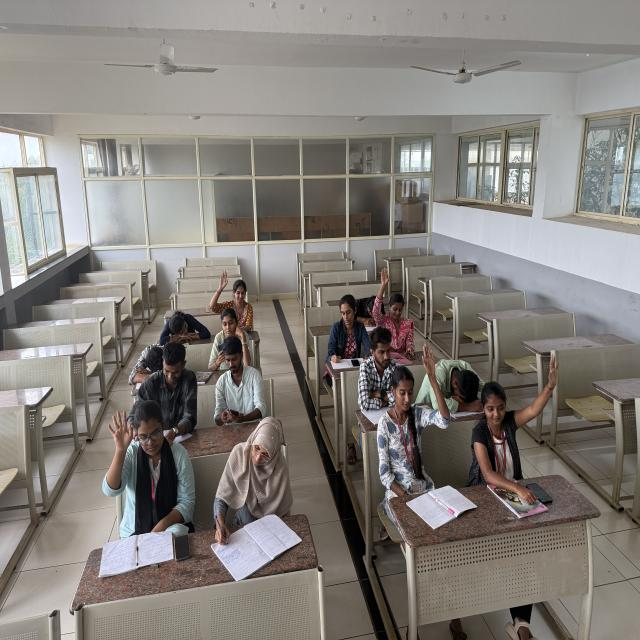Hand Rising: (380, 340, 446, 520), (480, 340, 556, 474), (102, 397, 188, 515), (374, 265, 412, 343), (211, 268, 251, 328)
Sleeping: (414, 348, 486, 418), (157, 306, 211, 348), (127, 339, 175, 382), (352, 291, 388, 329)
Using Phone: (212, 333, 267, 419), (210, 307, 253, 371)
Writing: (211, 410, 295, 558), (125, 338, 200, 442), (327, 291, 368, 369)
